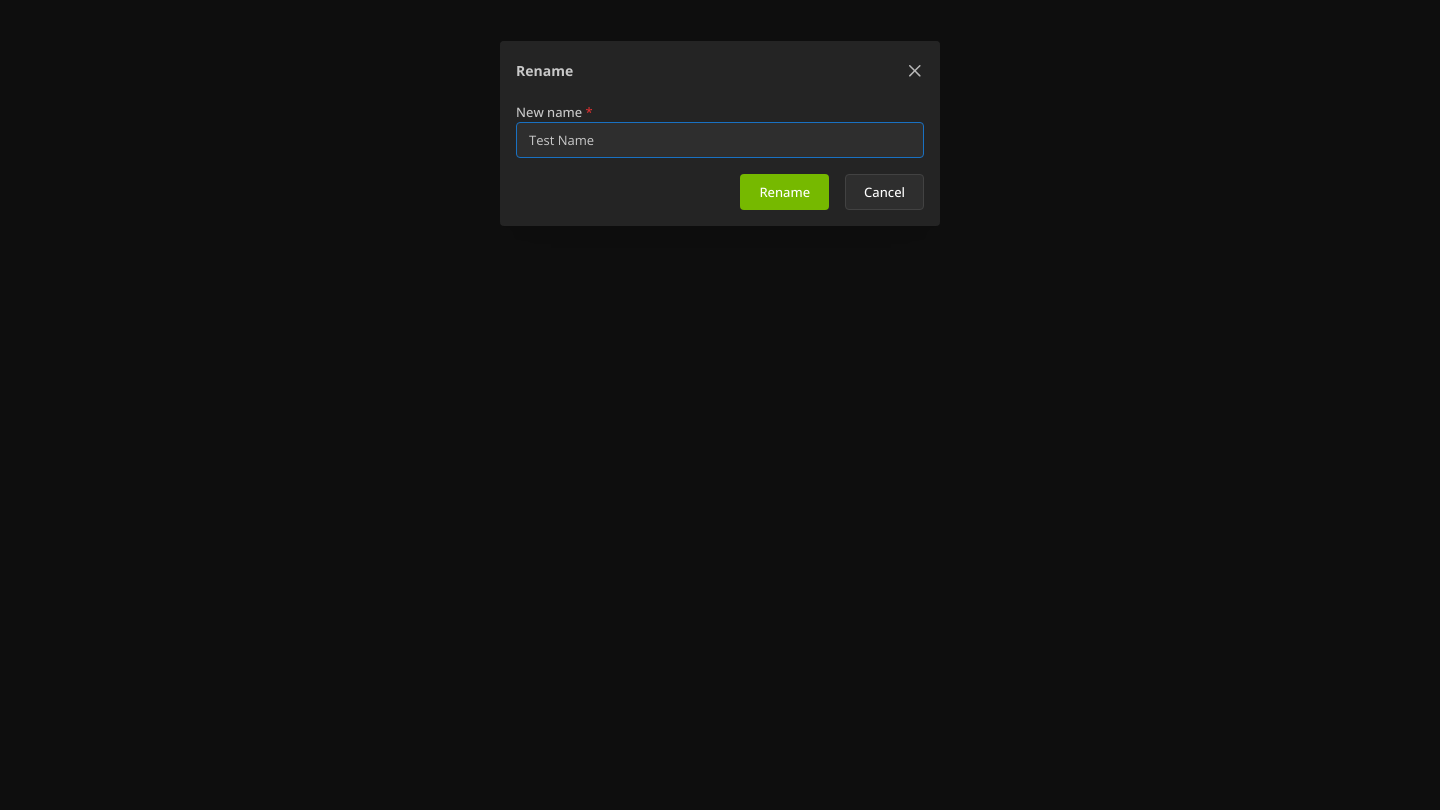
Test: RenameModal › shows validation error when submitting name with invalid characters
This screenshot has width=1440, height=810.
Type "test?.png" into the field labelled "New name *" at (720,140), box [516,122,924,158]
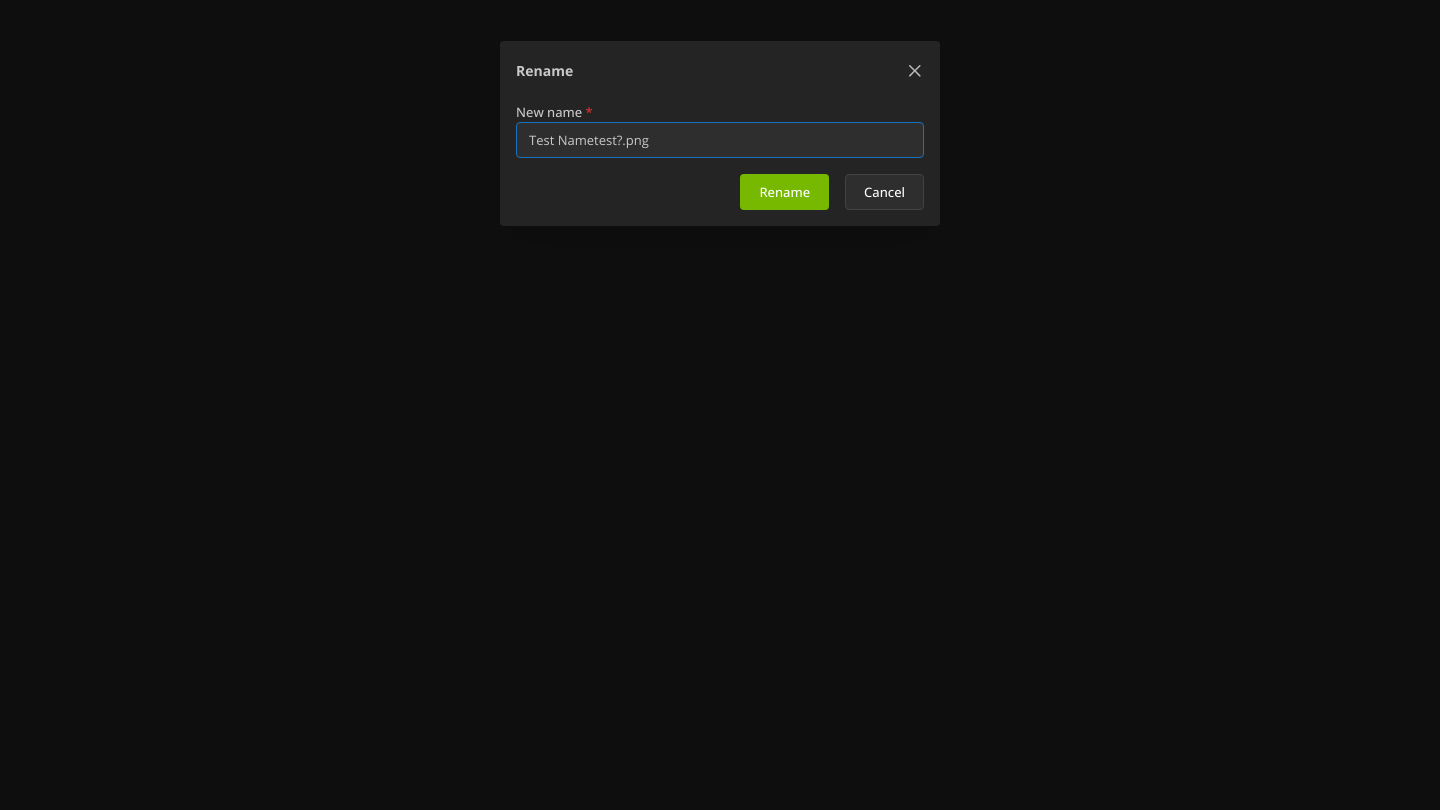
Click the button "Rename" at (785,192), box [740,174,829,210]
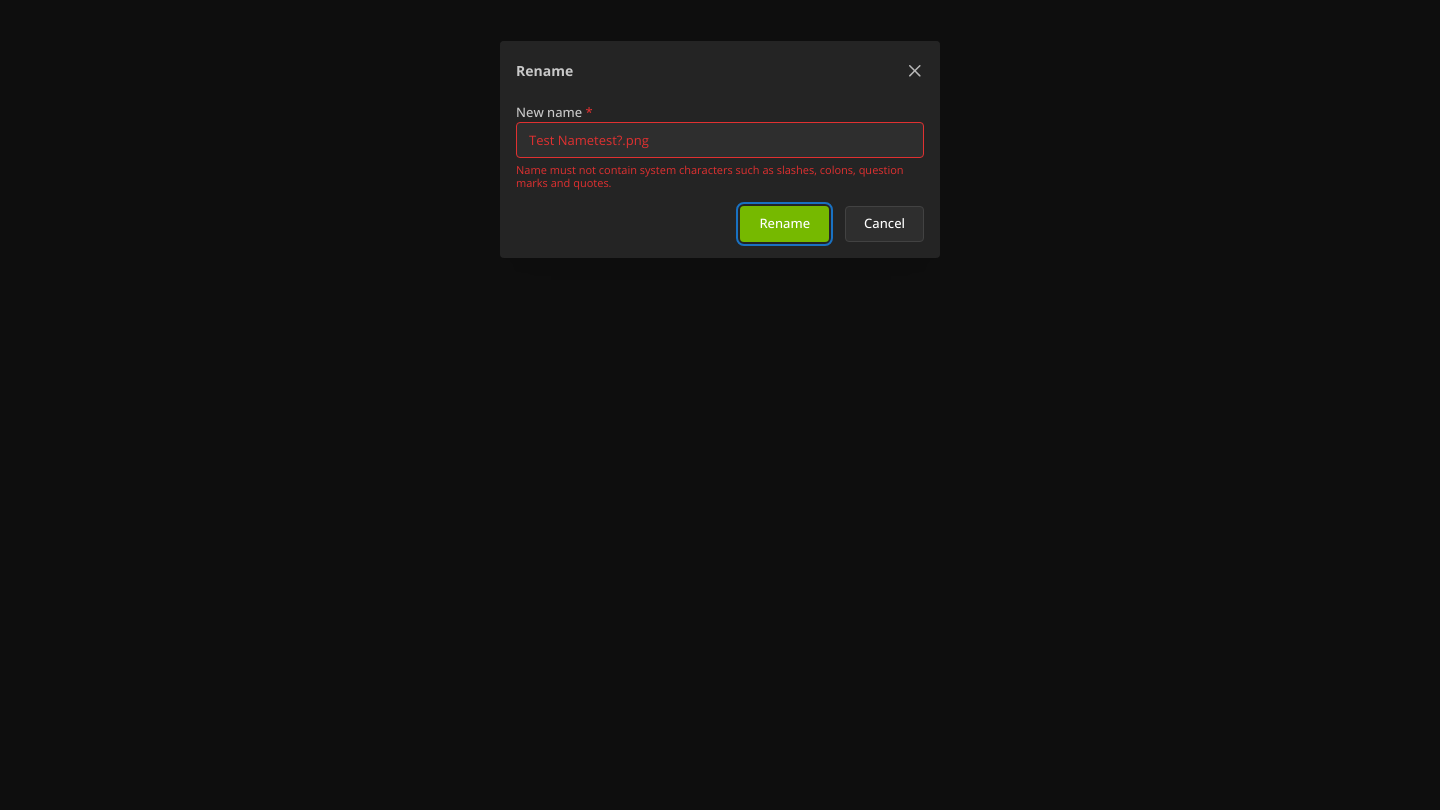
expect the text "Name must not contain system characters such as slashes, colons, question marks and quotes." is shown: met, box [516,162,904,190]
